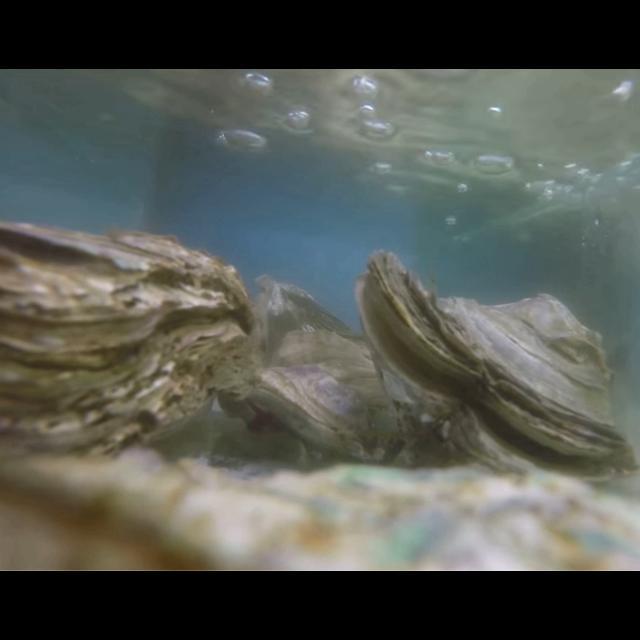Oyster-Closed: (0, 447, 640, 571), (0, 222, 254, 480), (256, 328, 414, 466), (254, 274, 370, 364)
Oyster-Open: (356, 252, 640, 492)
